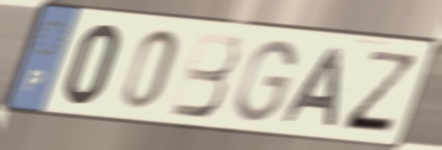0: (118, 26, 182, 114), (60, 21, 123, 108)
A: (280, 45, 345, 129)
B: (167, 30, 242, 121)
G: (231, 37, 299, 125)
Z: (339, 47, 422, 136)
